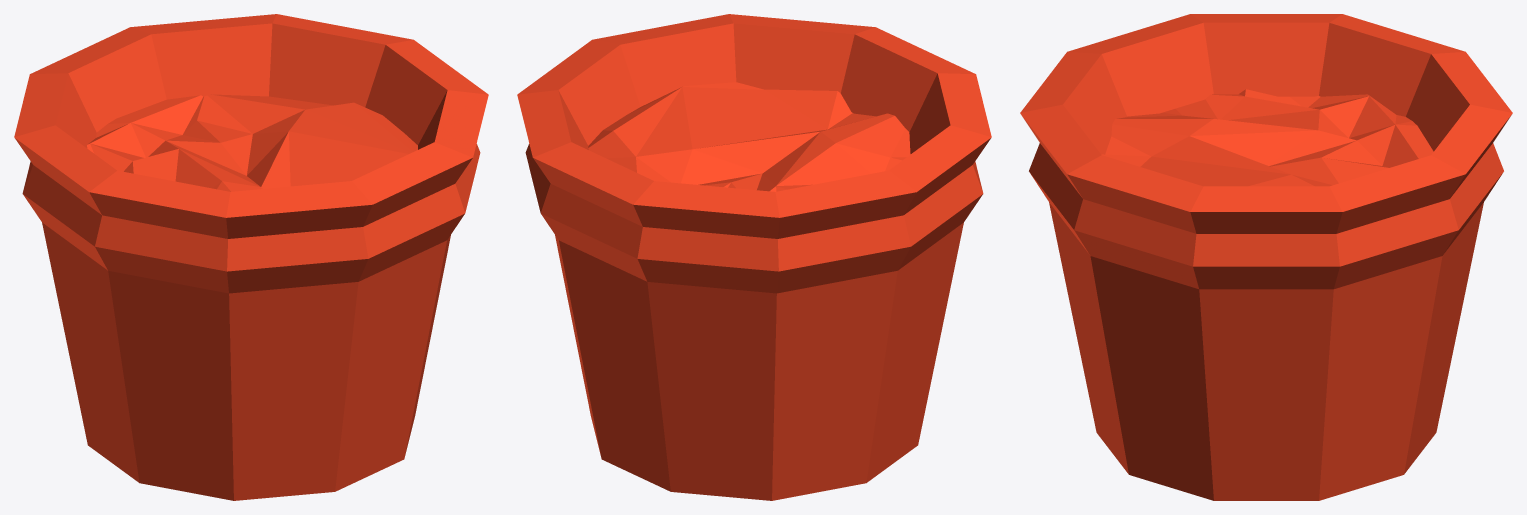
Rendered from SM_Flowerpot_D.fbx.
3 views of the same model, side by side, from view 1: azimuth 30°, elevation 25°; view 2: azimuth 150°, elevation 25°; view 3: azimuth 270°, elevation 25° (orthographic).
Visible parts, largest first — view 1: SM_Flowerpot_D; view 2: SM_Flowerpot_D; view 3: SM_Flowerpot_D.
Boxes of the visible parts, box(x1,y1,x2,y2) form: SM_Flowerpot_D: box(14, 14, 488, 500); SM_Flowerpot_D: box(517, 14, 991, 500); SM_Flowerpot_D: box(1020, 14, 1512, 500).
Size of the model in its own units: 0.5589 by 0.4317 by 0.5877.
